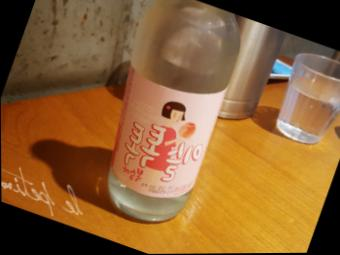glass: (83, 0, 261, 220)
